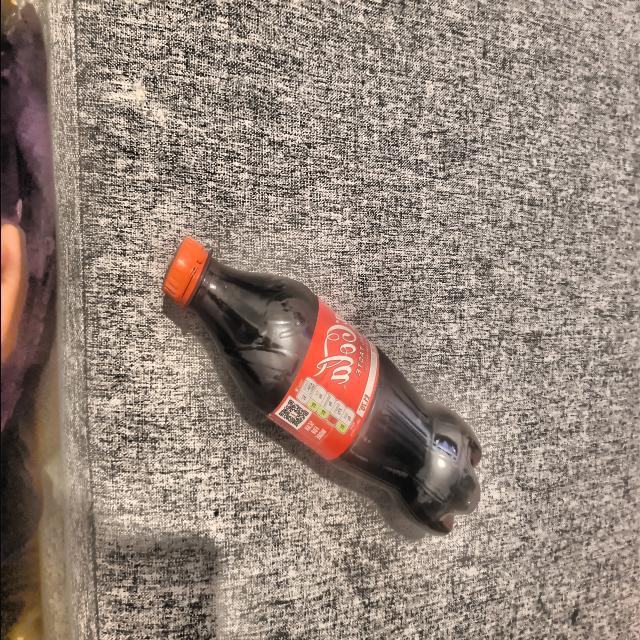coke-bottle: (158, 232, 484, 530)
